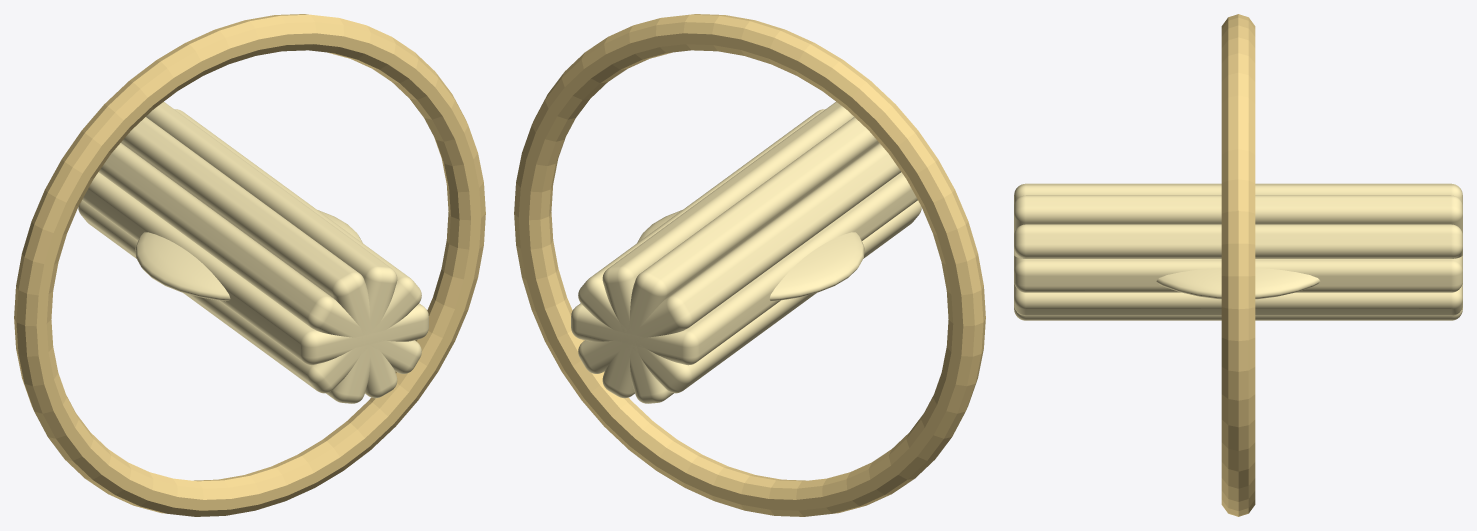
File: 壁挂星星灯.fbx
3 views of the same model, side by side, from view 1: azimuth 30°, elevation 25°; view 2: azimuth 150°, elevation 25°; view 3: azimuth 270°, elevation 25° (orthographic). The views are drawn at different scales.
Parts seen in each view (by area): view 1: 壁挂星星灯_金色外圈, 壁挂星星灯_星芒.003, 壁挂星星灯_星芒.001, 壁挂星星灯_星芒, 壁挂星星灯_星芒.004, 壁挂星星灯_星芒.002, 壁挂星星灯_圆灯芯; view 2: 壁挂星星灯_金色外圈, 壁挂星星灯_星芒.003, 壁挂星星灯_星芒.001, 壁挂星星灯_星芒, 壁挂星星灯_星芒.004, 壁挂星星灯_星芒.002, 壁挂星星灯_圆灯芯; view 3: 壁挂星星灯_金色外圈, 壁挂星星灯_星芒.002, 壁挂星星灯_星芒.004, 壁挂星星灯_星芒, 壁挂星星灯_星芒.003, 壁挂星星灯_星芒.001, 壁挂星星灯_圆灯芯.
Boxes of the visible parts, box(x1,y1,x2,y2) form: 壁挂星星灯_金色外圈: box(14, 14, 485, 516); 壁挂星星灯_星芒.003: box(99, 143, 421, 373); 壁挂星星灯_星芒.001: box(121, 117, 397, 398); 壁挂星星灯_星芒: box(82, 172, 428, 365); 壁挂星星灯_星芒.004: box(146, 102, 397, 403); 壁挂星星灯_星芒.002: box(78, 109, 421, 393); 壁挂星星灯_圆灯芯: box(135, 210, 362, 301); 壁挂星星灯_金色外圈: box(514, 14, 985, 516); 壁挂星星灯_星芒.003: box(578, 143, 900, 373); 壁挂星星灯_星芒.001: box(602, 117, 878, 398); 壁挂星星灯_星芒: box(571, 172, 917, 365); 壁挂星星灯_星芒.004: box(602, 102, 853, 403); 壁挂星星灯_星芒.002: box(578, 109, 921, 393); 壁挂星星灯_圆灯芯: box(637, 210, 864, 301); 壁挂星星灯_金色外圈: box(1221, 14, 1255, 516); 壁挂星星灯_星芒.002: box(1014, 224, 1462, 258); 壁挂星星灯_星芒.004: box(1014, 195, 1462, 234); 壁挂星星灯_星芒: box(1014, 255, 1462, 292); 壁挂星星灯_星芒.003: box(1014, 282, 1462, 315); 壁挂星星灯_星芒.001: box(1014, 183, 1462, 320); 壁挂星星灯_圆灯芯: box(1156, 268, 1320, 299).
Size of the model in its own units: 51.6 by 51.6 by 46.
